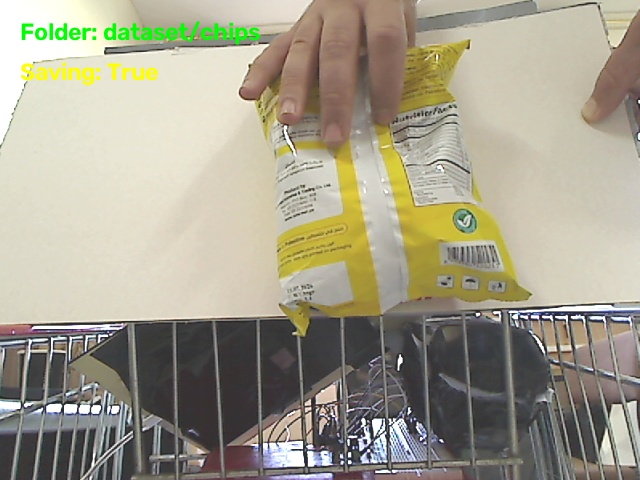chips: (257, 41, 529, 334)
